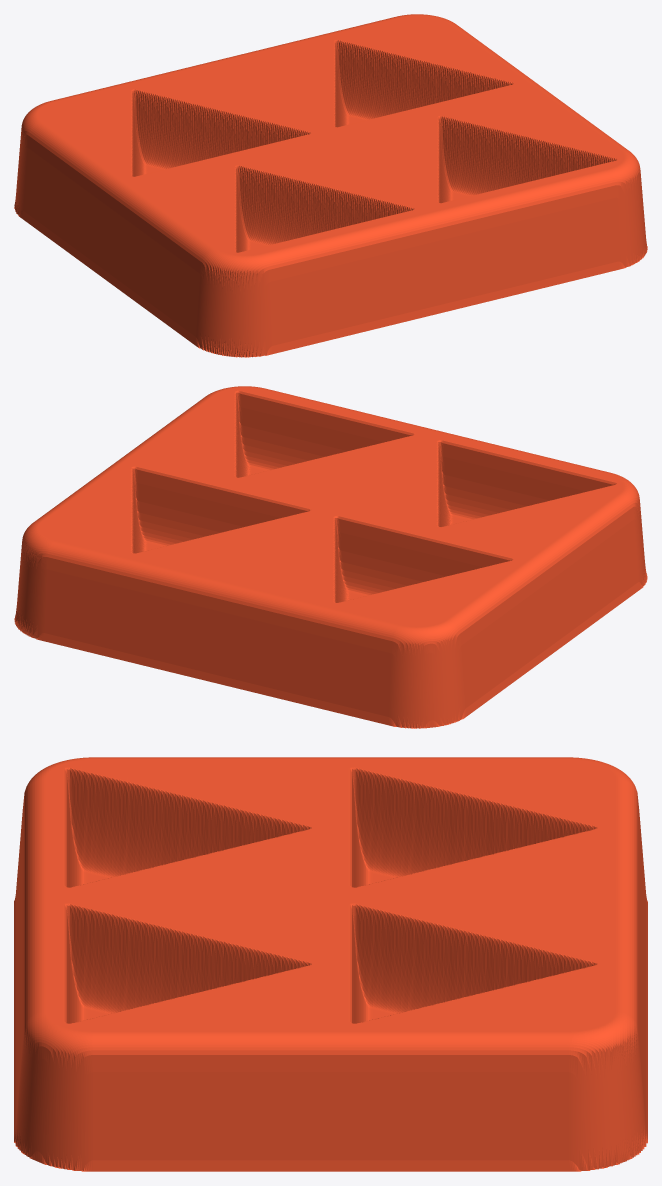
File: mold.glb
3 views of the same model, one above another, from view 1: azimuth 30°, elevation 25°; view 2: azimuth 150°, elevation 25°; view 3: azimuth 270°, elevation 25° (orthographic). The views are drawn at different scales.
Parts seen in each view (by area): view 1: geometry_0; view 2: geometry_0; view 3: geometry_0.
Boxes of the visible parts, left/top/right/bottom form: geometry_0: left=14, top=14, right=647, bottom=357; geometry_0: left=14, top=386, right=647, bottom=728; geometry_0: left=14, top=757, right=647, bottom=1171.
Size of the model in its own units: 0.0808 by 0.0159 by 0.0724.
